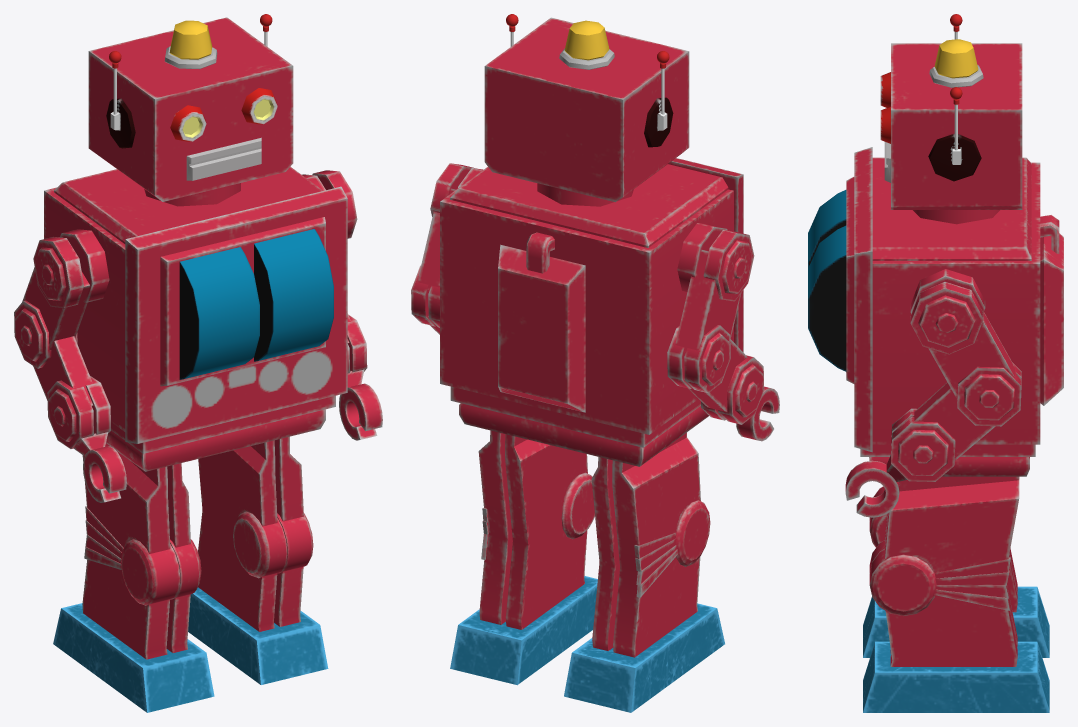
File: robot-o.glb
3 renders of one model, left to right at view 1: azimuth 30°, elevation 25°; view 2: azimuth 150°, elevation 25°; view 3: azimuth 270°, elevation 25°, orthographic.
Size of the model in its own units: 6.63 by 13.5 by 4.98.
1 material, 1 textured.
